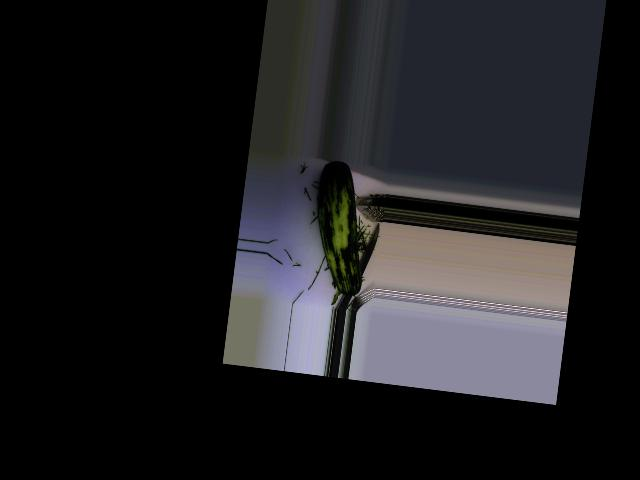cucumber: (305, 159, 376, 298)
